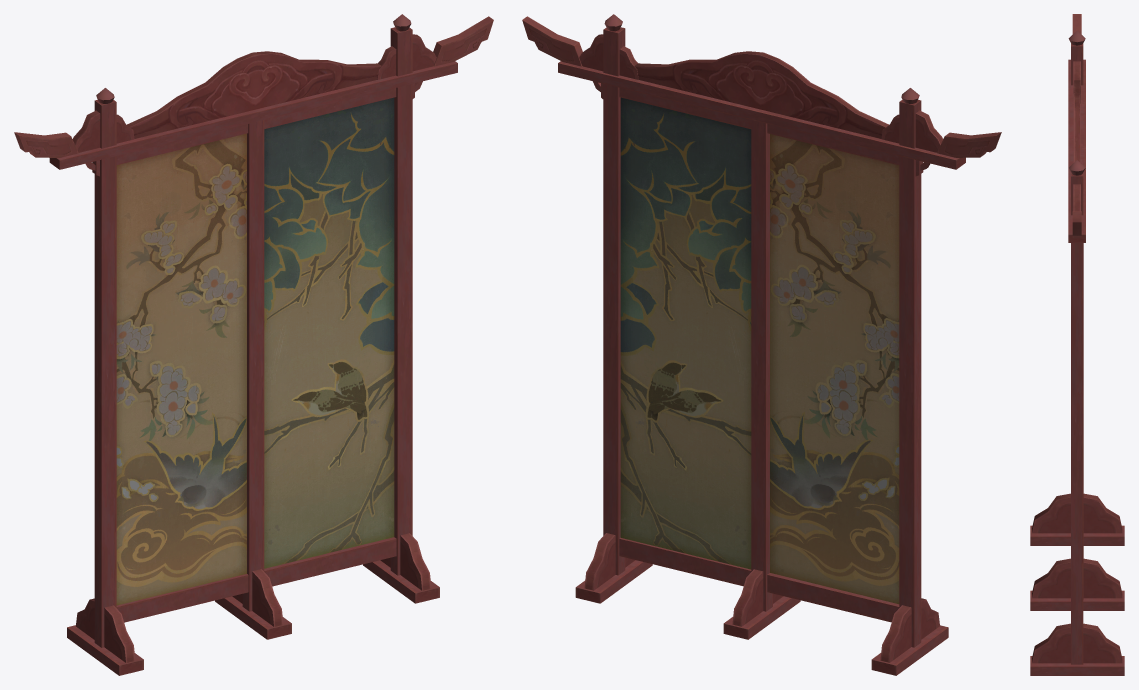
The model's file is Homeworld_Exterior_Ly_Decoration_Prop_HdjPingfeng_02_Vo.fbx.
3 renders of one model, left to right at view 1: azimuth 30°, elevation 25°; view 2: azimuth 150°, elevation 25°; view 3: azimuth 270°, elevation 25°, orthographic. The views are drawn at different scales.
Parts seen in each view (by area): view 1: Area_Ly_Prop_LYG_Hdj_Screen_14_Vo; view 2: Area_Ly_Prop_LYG_Hdj_Screen_14_Vo; view 3: Area_Ly_Prop_LYG_Hdj_Screen_14_Vo.
Part boxes in pixels (<box>): Area_Ly_Prop_LYG_Hdj_Screen_14_Vo: <box>14,14,493,675</box>; Area_Ly_Prop_LYG_Hdj_Screen_14_Vo: <box>522,14,1001,675</box>; Area_Ly_Prop_LYG_Hdj_Screen_14_Vo: <box>1030,14,1124,675</box>.
Bounding box in the file's own units: 4.66 × 5.33 × 0.8913.
2 materials, 2 textured.
